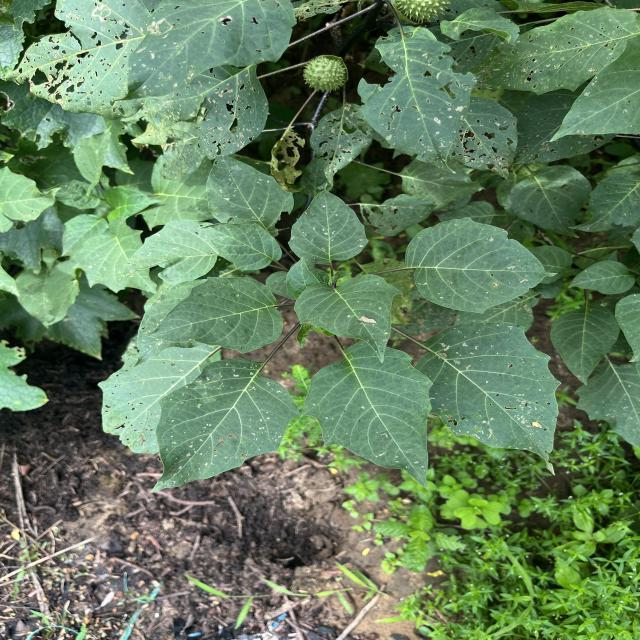Datura metal linn: (414, 319, 564, 478), (147, 356, 302, 494), (298, 340, 436, 492), (402, 214, 562, 316), (137, 274, 286, 354), (293, 272, 405, 364), (286, 181, 370, 267), (197, 222, 284, 272)
